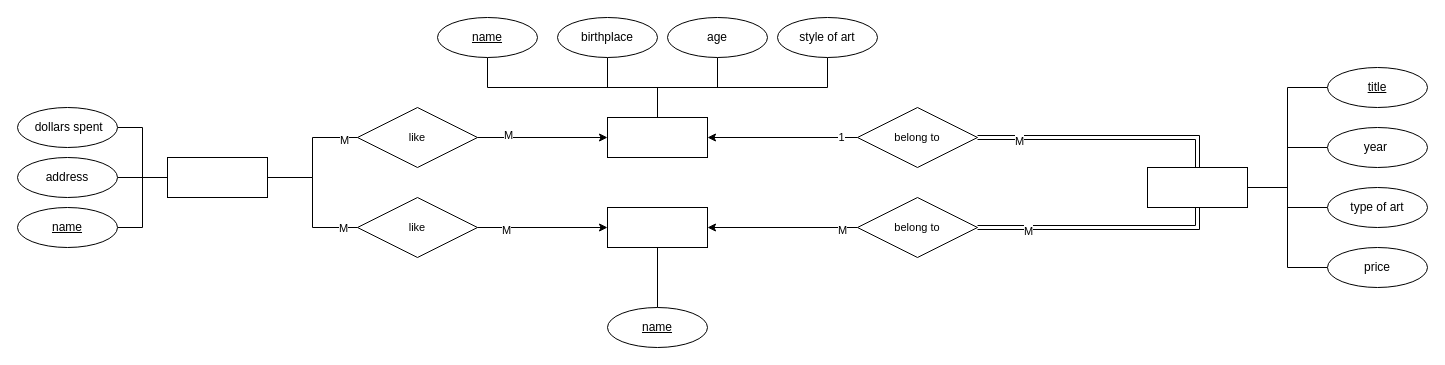
Image size: 1445x365. Some labels were removed from this diagram. The shapes that lost their labels are listed below. From the top down, each one's centre as x and y in pixels, then its label:
At point (657, 137): "Artist".
At point (217, 177): "Customer".
At point (1197, 187): "Artwork".
At point (657, 227): "Group".
